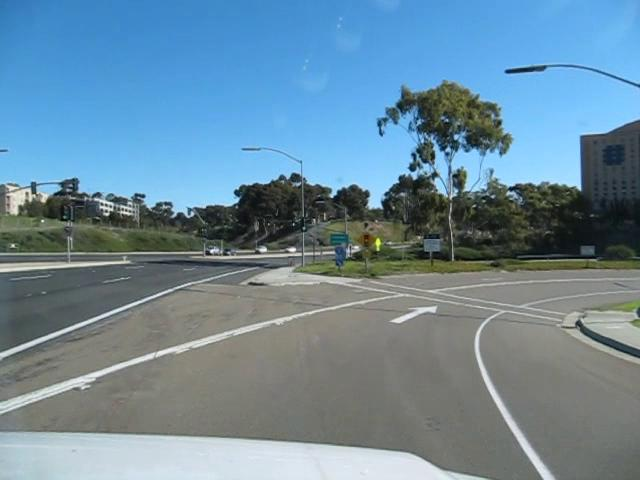signalAhead: (355, 230, 376, 250)
